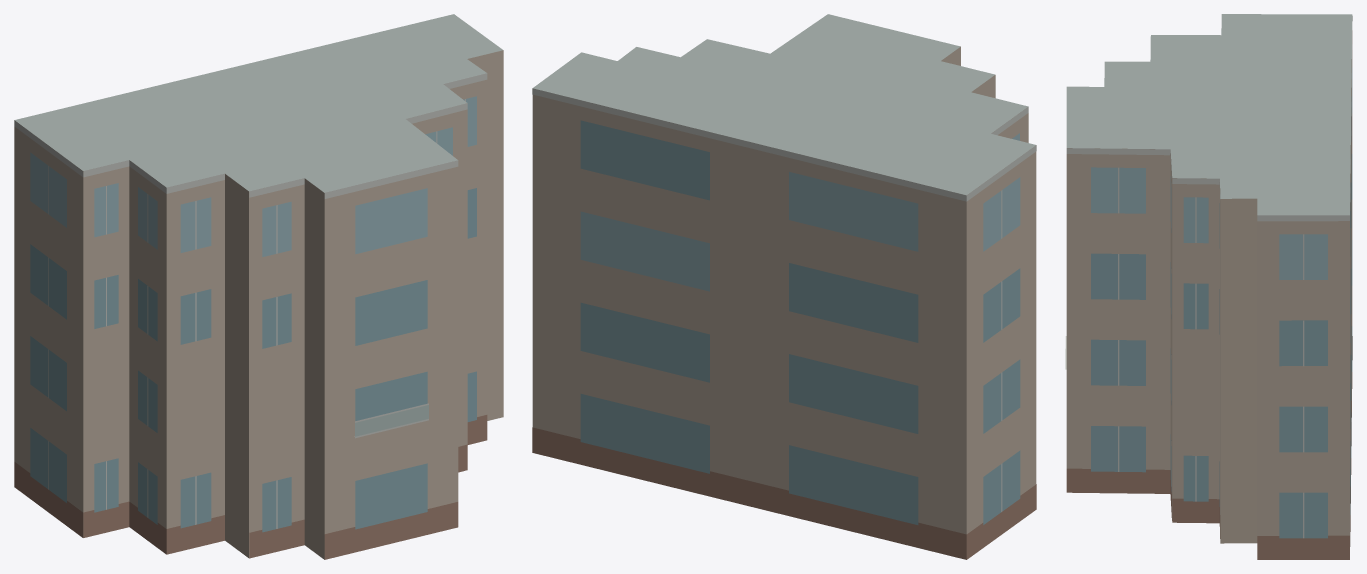
File: survey-upis-33014623.glb
3 views of the same model, side by side, from view 1: azimuth 30°, elevation 25°; view 2: azimuth 150°, elevation 25°; view 3: azimuth 270°, elevation 25° (orthographic). The views are drawn at different scales.
Visible parts, largest first — view 1: survey-upis-33014623.tmp; view 2: survey-upis-33014623.tmp; view 3: survey-upis-33014623.tmp.
Part boxes in pixels (x1=…): survey-upis-33014623.tmp: x1=14, y1=14, x2=503, y2=559; survey-upis-33014623.tmp: x1=532, y1=14, x2=1036, y2=559; survey-upis-33014623.tmp: x1=1065, y1=14, x2=1352, y2=559.
Bounding box in the file's own units: 17.8 × 14.2 × 10.72.
